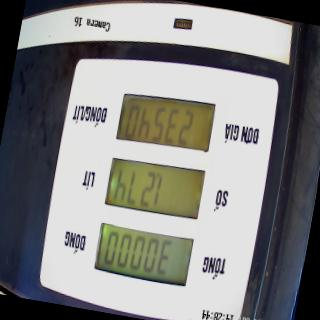screen: (90, 82, 221, 294)
